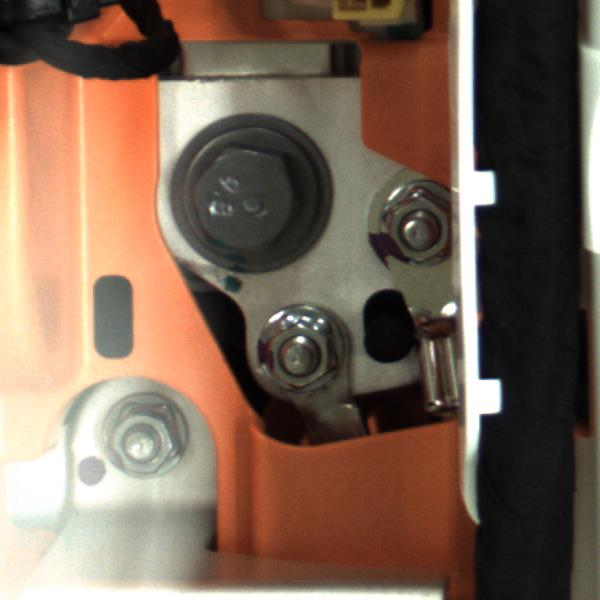nut_b: (161, 110, 337, 275)
screw_s: (356, 175, 458, 271), (252, 305, 355, 400), (101, 406, 187, 485)
